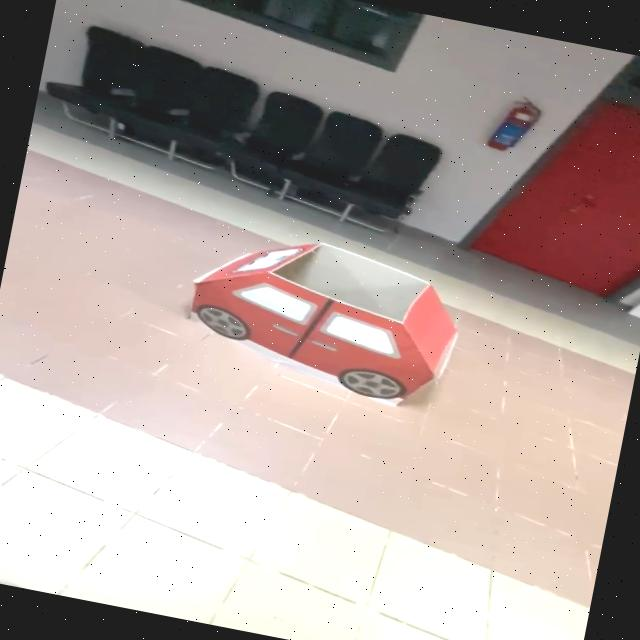red_car: (165, 209, 485, 431)
